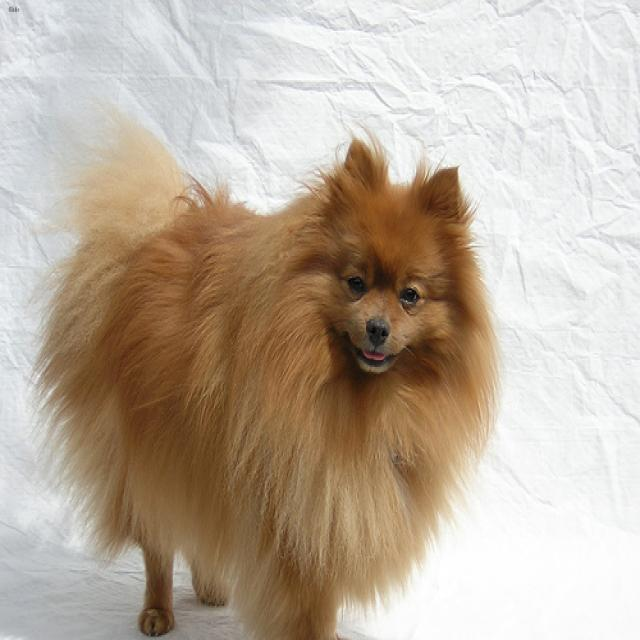dog-pomeranian: (33, 126, 503, 637)
